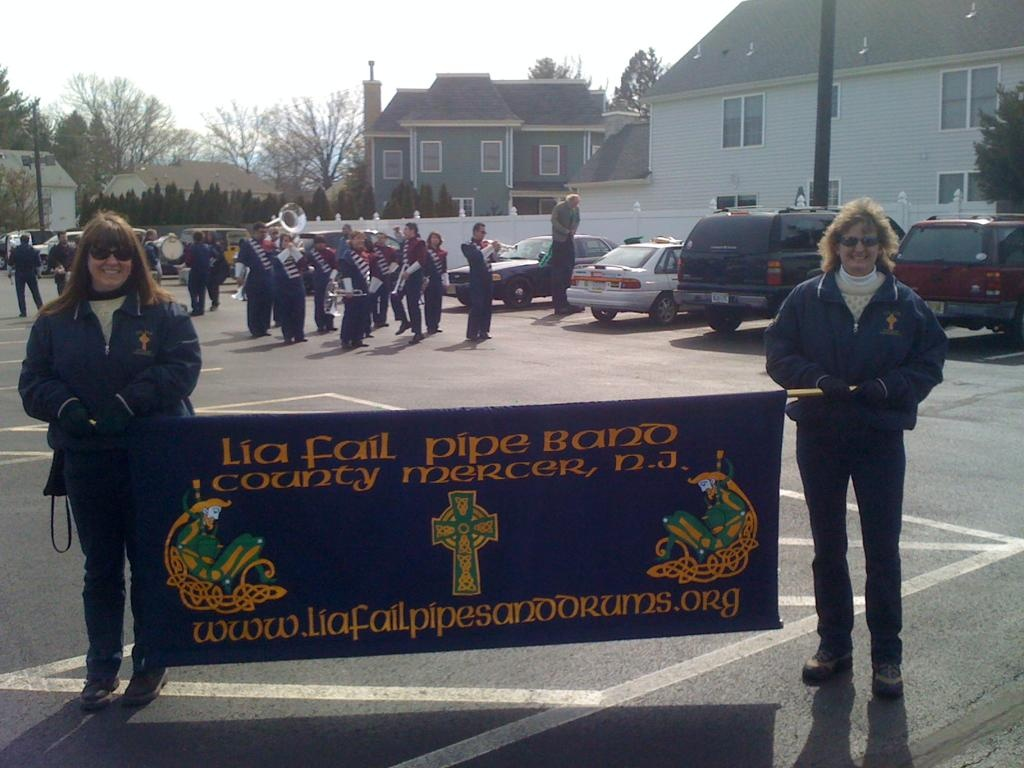human_face: (88, 239, 130, 285), (839, 223, 877, 269), (254, 226, 266, 240), (475, 224, 485, 240), (403, 225, 413, 238), (352, 234, 362, 246), (568, 196, 578, 206), (430, 234, 438, 246), (281, 236, 289, 248), (314, 240, 324, 248), (270, 229, 278, 239), (58, 234, 66, 242), (342, 226, 348, 234), (376, 234, 382, 242), (150, 231, 156, 239)
